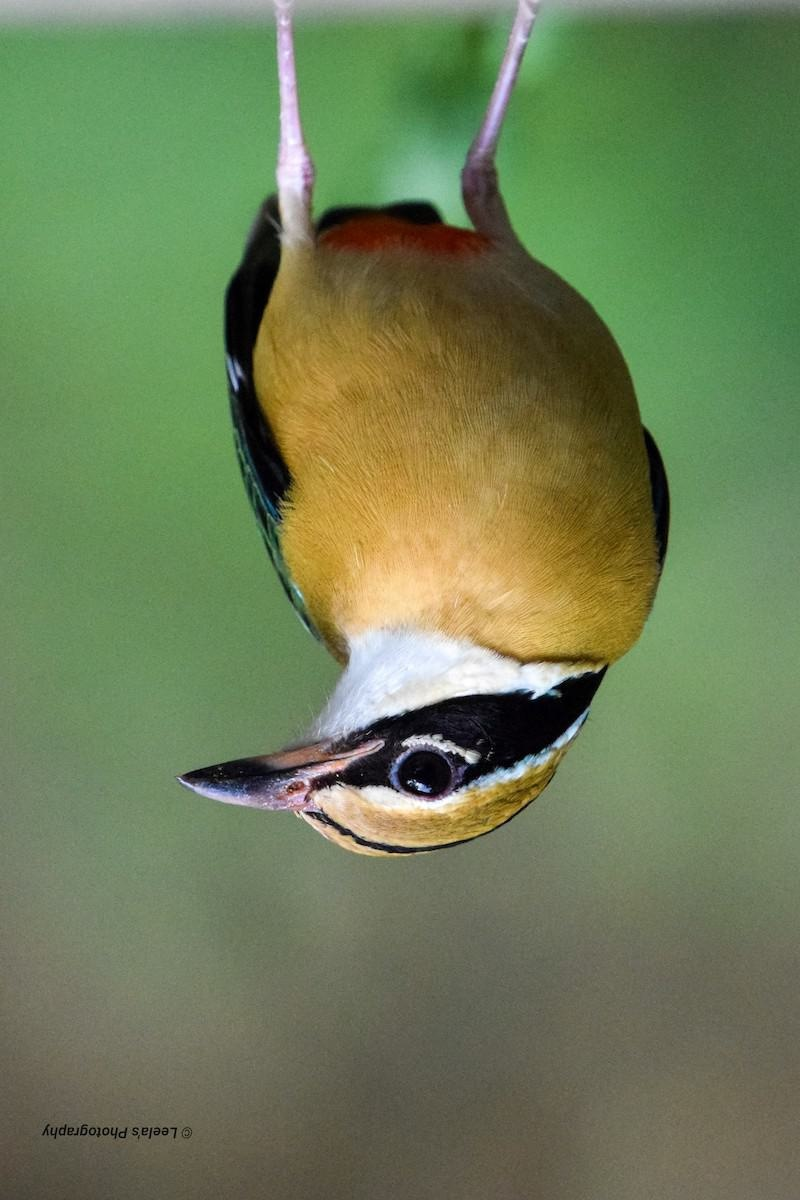pitta: (130, 91, 726, 885)
